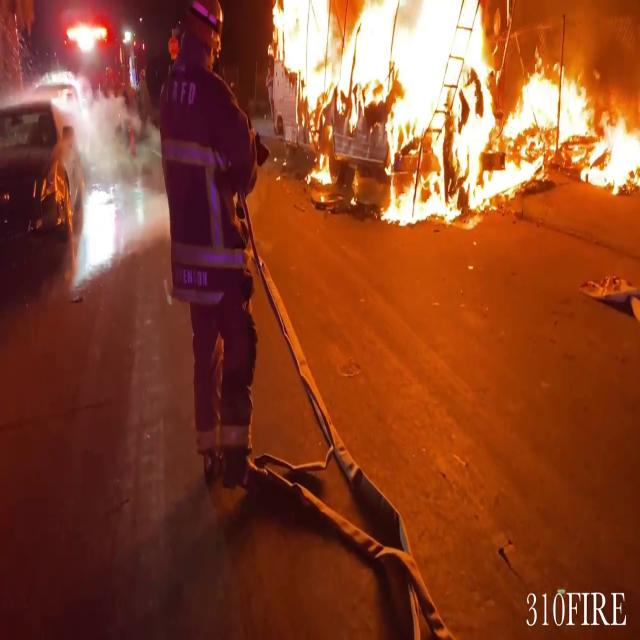Fire: (270, 0, 640, 219)
